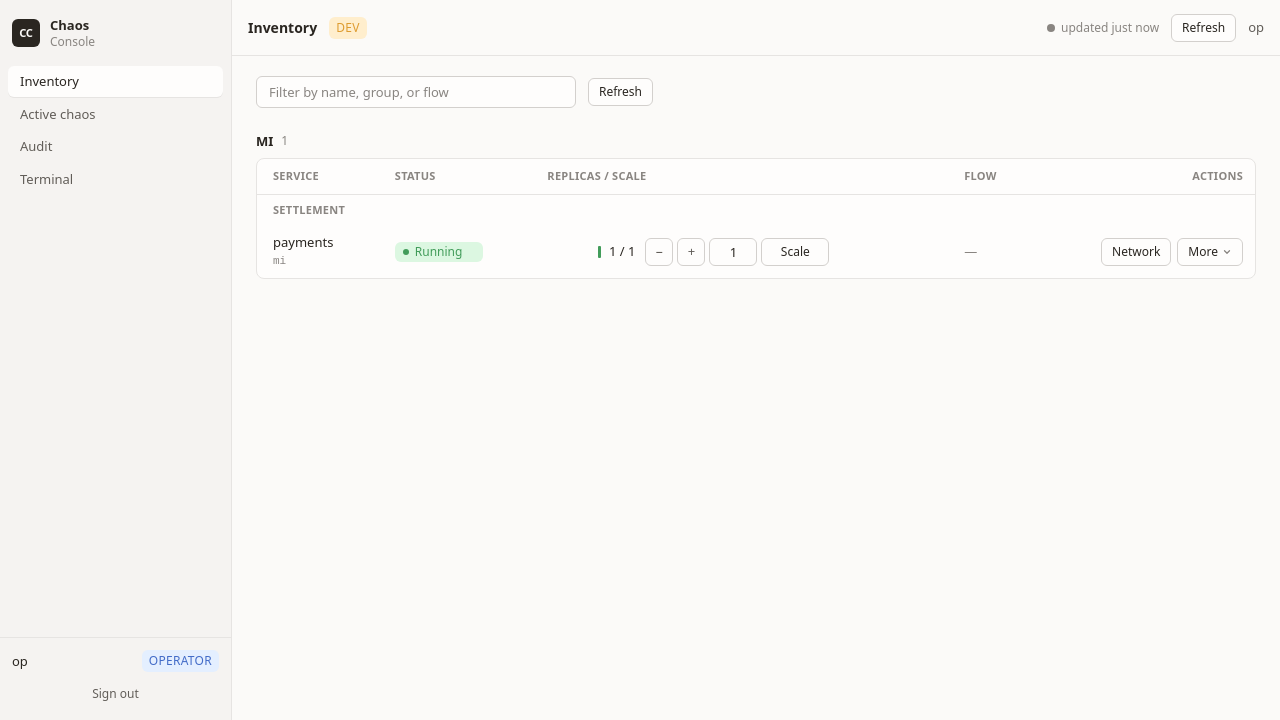
it: <Console/> (authed operator) › opens the network chaos drawer when Network is clicked
Click the button "Network" at (1136, 252), box x1=1101 y1=238 x2=1171 y2=266
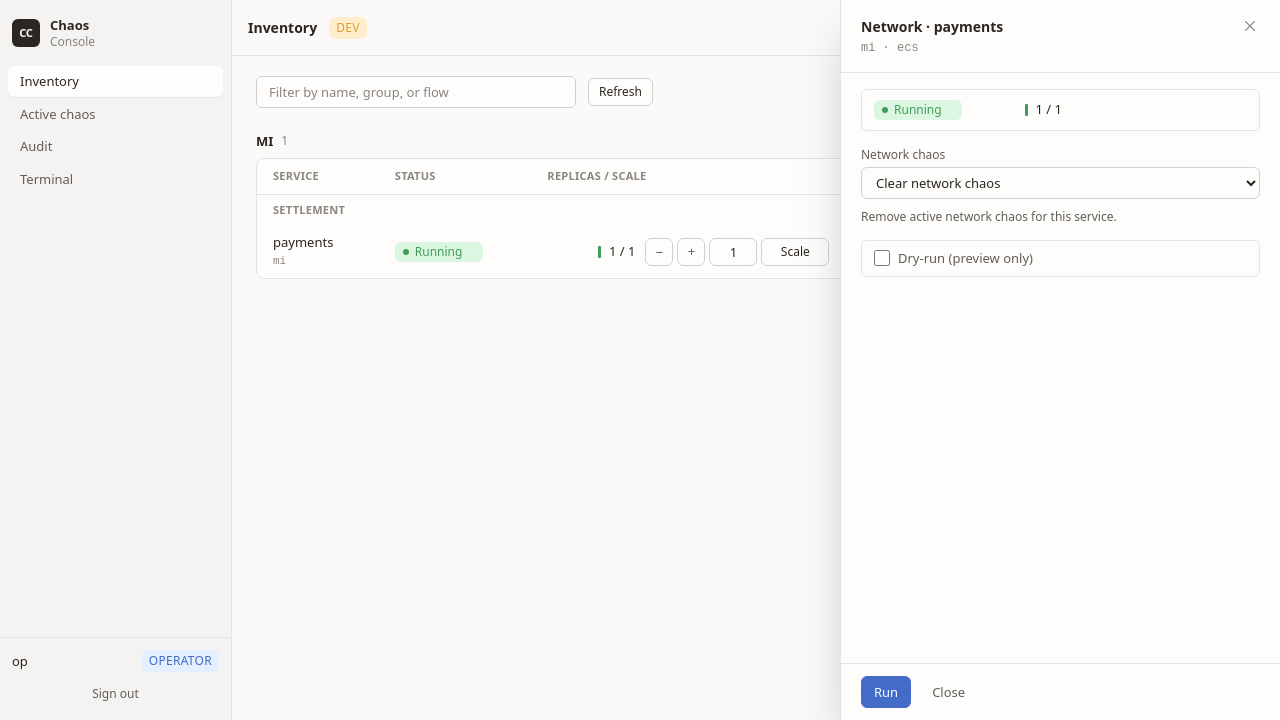
Now the dropdown labelled "Network chaos" is shown, box x1=861 y1=167 x2=1260 y2=199
